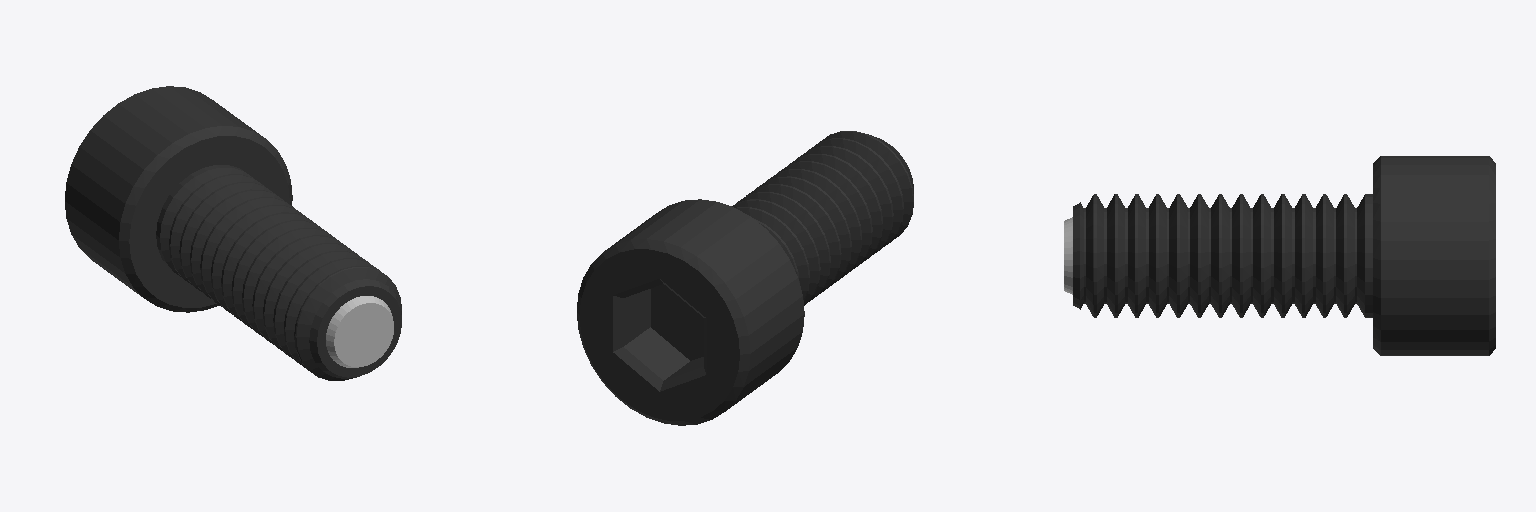
The model's file is bcf-8x20.obj.
3 views of the same model, side by side, from view 1: azimuth 30°, elevation 25°; view 2: azimuth 150°, elevation 25°; view 3: azimuth 270°, elevation 25° (orthographic).
Parts seen in each view (by area): view 1: bcf-8x20_1; view 2: bcf-8x20_1; view 3: bcf-8x20_1.
Part boxes in pixels (bbox=[...]): bcf-8x20_1: bbox=[65, 86, 401, 380]; bcf-8x20_1: bbox=[577, 131, 913, 425]; bcf-8x20_1: bbox=[1064, 156, 1495, 355].
Bounding box in the file's own units: 13 × 13 × 28.